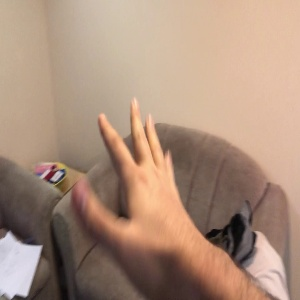hand: (72, 96, 213, 281)
